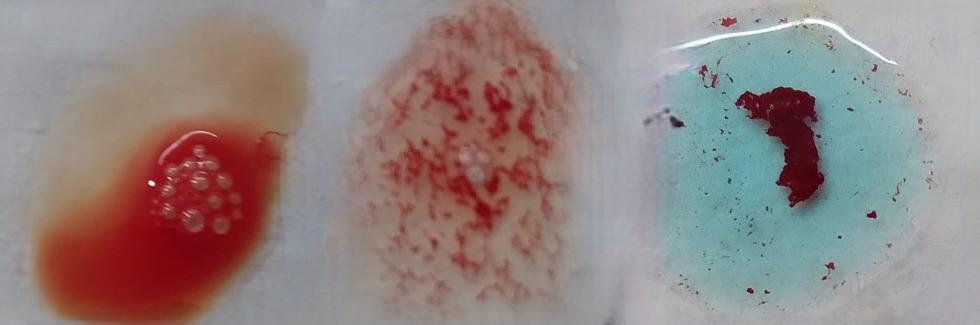A: (661, 25, 924, 313)
D: (347, 14, 584, 316)
